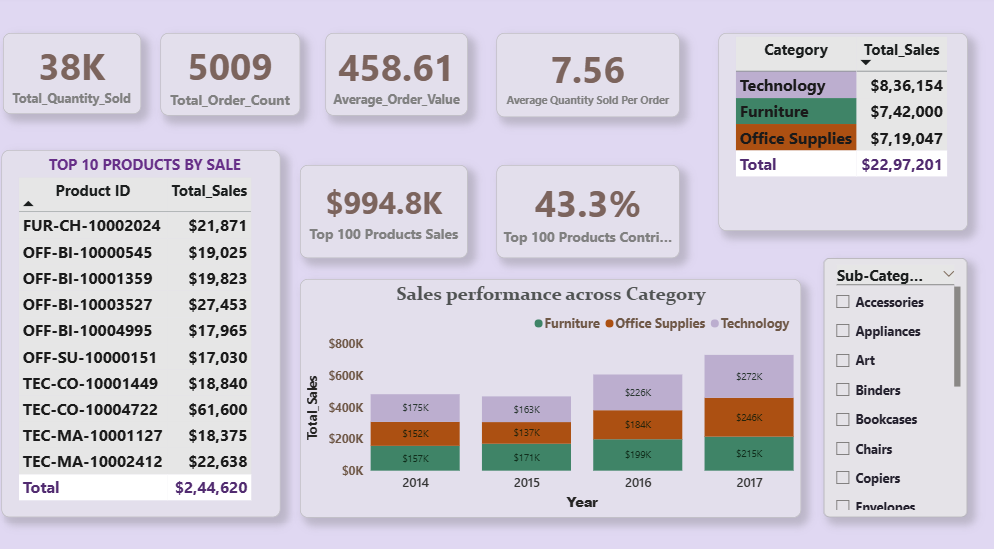

This screenshot's page, from the dashboard's own definition file:
{"tool":"powerbi","page":{"name":"Product Performance","canvas":[1280,720],"ordinal":1},"visuals":[{"type":"card","fields":{"Values":["Measures_table.Total_Quantity_Sold"]},"box":[18.9,49.1,173.9,102],"z":0},{"type":"card","fields":{"Values":["Measures_table.Average Quantity Per Order"]},"box":[640.6,49.1,230.6,105.8],"z":1000},{"type":"card","fields":{"Values":["Measures_table.Total_Order_Count"]},"box":[217.3,49.1,175.7,103.9],"z":2000},{"type":"card","fields":{"Values":["Measures_table.Average_Order_Value"]},"box":[425.2,49.1,179.5,103.9],"z":3000},{"type":"tableEx","fields":{"Values":["Dim_Product.Category","Measures_table.Total_Sales"]},"box":[920.3,49.1,313.7,249.5],"z":4000},{"type":"columnChart","title":"Sales performance across Category","fields":{"Y":["Measures_table.Total_Sales"],"Category":["Dim_Date.Year"],"Series":["Dim_Product.Category"]},"box":[393.1,359.1,631.2,300.5],"z":5000},{"type":"tableEx","title":"TOP 10 PRODUCTS BY SALE","fields":{"Values":["Dim_Product.Product ID","Measures_table.Total_Sales"]},"box":[17,196.5,351.5,463],"z":6000},{"type":"slicer","fields":{"Values":["Dim_Product.Sub-Category"]},"box":[1052.6,332.6,181.4,326.9],"z":7000},{"type":"card","fields":{"Values":["Measures_table.Top 100 Products Sales"]},"box":[393.1,215.4,211.7,117.2],"z":7001},{"type":"card","fields":{"Values":["Measures_table.Top 100 Products Contribution"]},"box":[640.6,215.4,230.6,117.2],"z":7002}]}

Visuals, with their boxes in screenshot pixels (x1, y1, x2, y2), scaled from the page's 1280x720 canvas onto the 994x549 screenshot:
card - Measures_table.Total_Quantity_Sold: [x1=15, y1=37, x2=150, y2=115]
card - Measures_table.Average Quantity Per Order: [x1=497, y1=37, x2=677, y2=118]
card - Measures_table.Total_Order_Count: [x1=169, y1=37, x2=305, y2=117]
card - Measures_table.Average_Order_Value: [x1=330, y1=37, x2=470, y2=117]
tableEx - Dim_Product.Category x Measures_table.Total_Sales: [x1=715, y1=37, x2=958, y2=228]
"Sales performance across Category" columnChart: [x1=305, y1=274, x2=795, y2=503]
"TOP 10 PRODUCTS BY SALE" tableEx: [x1=13, y1=150, x2=286, y2=503]
slicer - Dim_Product.Sub-Category: [x1=817, y1=254, x2=958, y2=503]
card - Measures_table.Top 100 Products Sales: [x1=305, y1=164, x2=470, y2=254]
card - Measures_table.Top 100 Products Contribution: [x1=497, y1=164, x2=677, y2=254]
